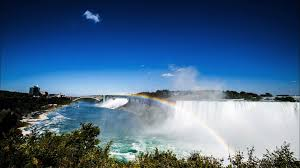sea: (21, 94, 300, 162)
sky: (3, 3, 298, 93)
